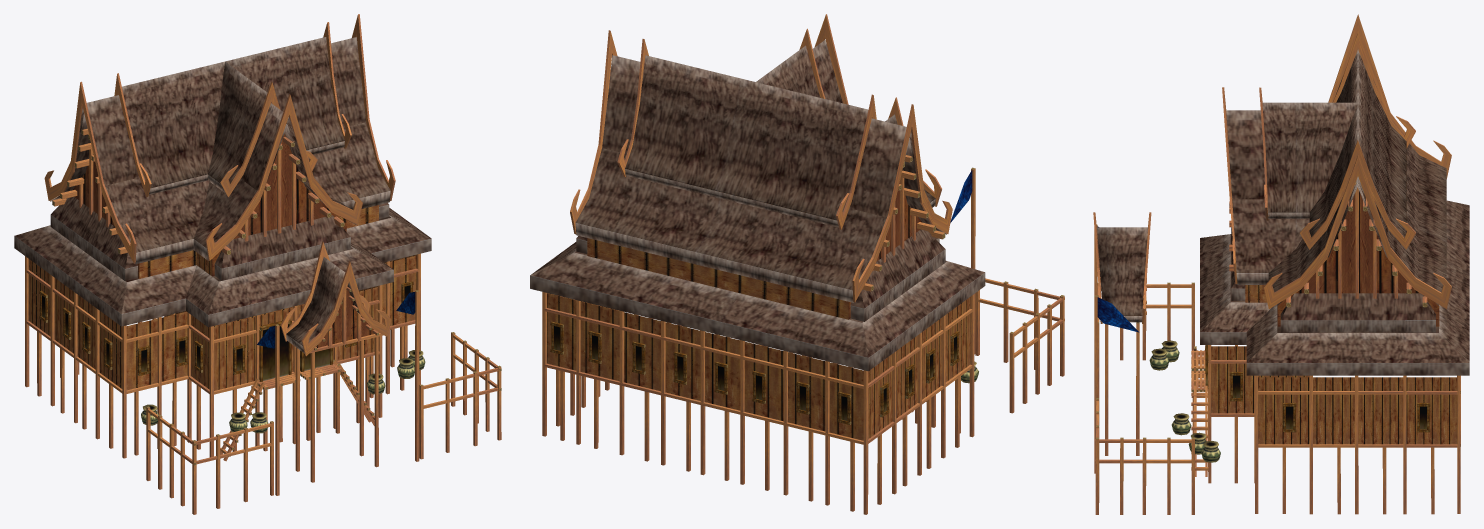
3 renders of one model, left to right at view 1: azimuth 30°, elevation 25°; view 2: azimuth 150°, elevation 25°; view 3: azimuth 270°, elevation 25°, orthographic. The views are drawn at different scales.
Parts seen in each view (by area): view 1: cc; view 2: cc; view 3: cc.
Part boxes in pixels (x1,y1,x2,y2): cc: (14,14,501,514); cc: (530,14,1064,514); cc: (1093,14,1469,514).
Size of the model in its own units: 25.36 by 25.6 by 26.52.
